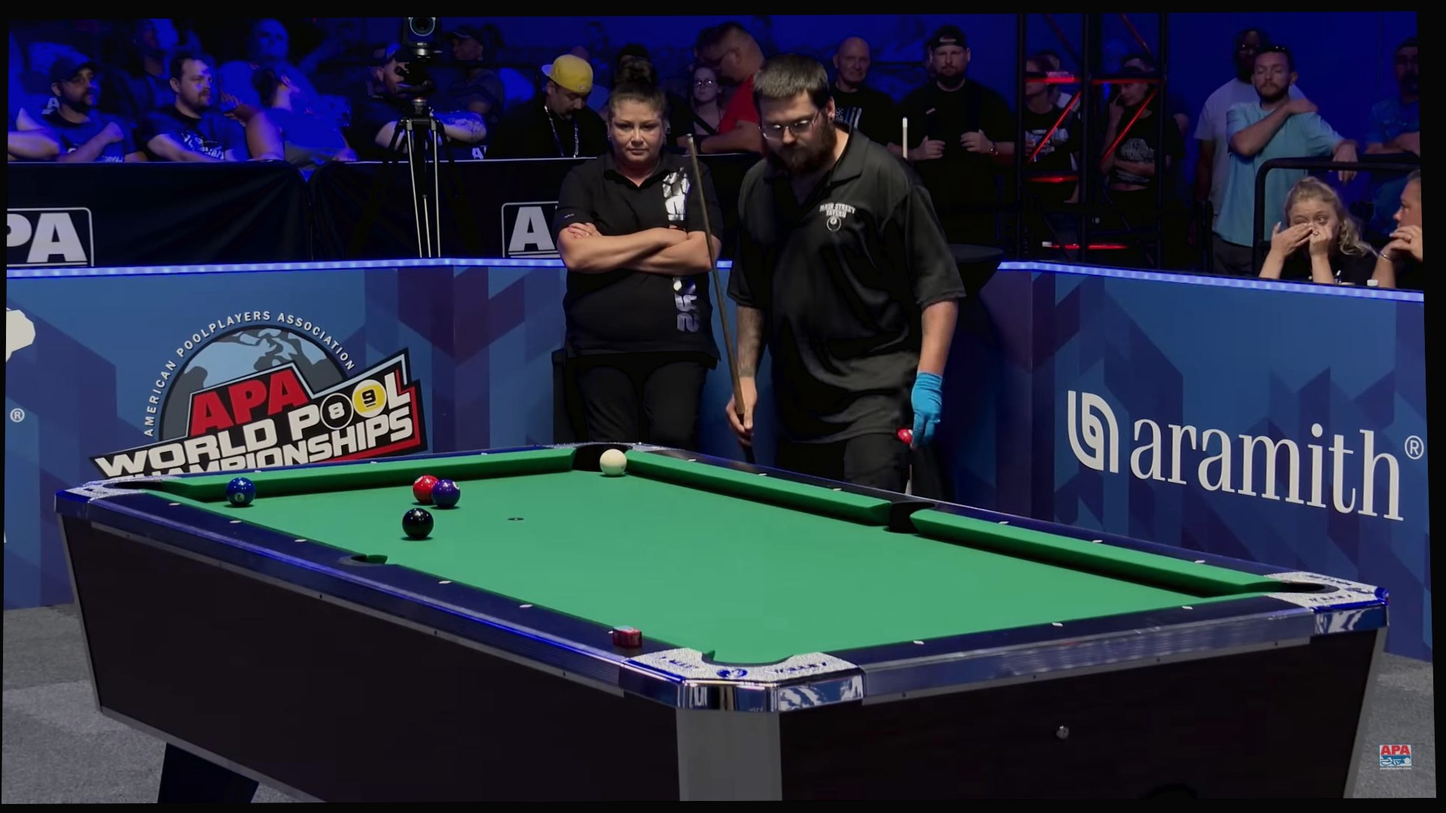Black: (436, 576, 453, 587), (292, 535, 309, 546), (685, 455, 702, 466), (754, 469, 771, 480), (1088, 536, 1105, 547), (1050, 618, 1067, 629), (910, 636, 927, 647), (366, 457, 382, 468), (477, 448, 493, 459), (995, 517, 1011, 528), (604, 627, 621, 637), (165, 499, 182, 509), (249, 466, 266, 476), (1191, 557, 1208, 567), (1180, 602, 1197, 612), (518, 601, 534, 611), (227, 517, 243, 527), (830, 484, 846, 494)
Cue: (225, 477, 256, 507), (431, 478, 460, 509), (412, 475, 440, 505)
Solid: (402, 507, 434, 540)
Stripe: (599, 449, 628, 476)
